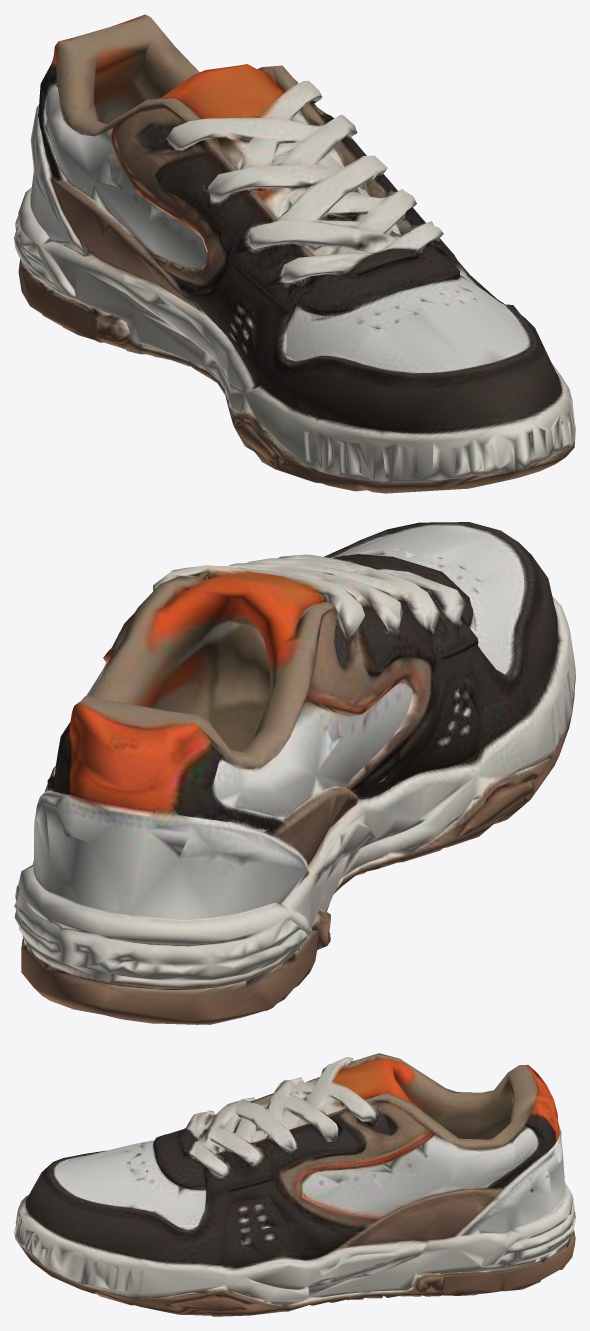
Rendered from mens-white-brown-casual-sneakers-1.glb.
3 renders of one model, top to bottom at view 1: azimuth 30°, elevation 25°; view 2: azimuth 150°, elevation 25°; view 3: azimuth 270°, elevation 25°, orthographic. The views are drawn at different scales.
Parts seen in each view (by area): view 1: tripo_node_f3353aa2-9929-4d64-afc7-5f40949aa116; view 2: tripo_node_f3353aa2-9929-4d64-afc7-5f40949aa116; view 3: tripo_node_f3353aa2-9929-4d64-afc7-5f40949aa116.
Part boxes in pixels (bbox=[...]): tripo_node_f3353aa2-9929-4d64-afc7-5f40949aa116: bbox=[14, 14, 575, 493]; tripo_node_f3353aa2-9929-4d64-afc7-5f40949aa116: bbox=[14, 522, 575, 1024]; tripo_node_f3353aa2-9929-4d64-afc7-5f40949aa116: bbox=[14, 1053, 575, 1316].
Bounding box in the file's own units: 0.422 × 0.3867 × 0.9981.
1 material, 1 textured.
